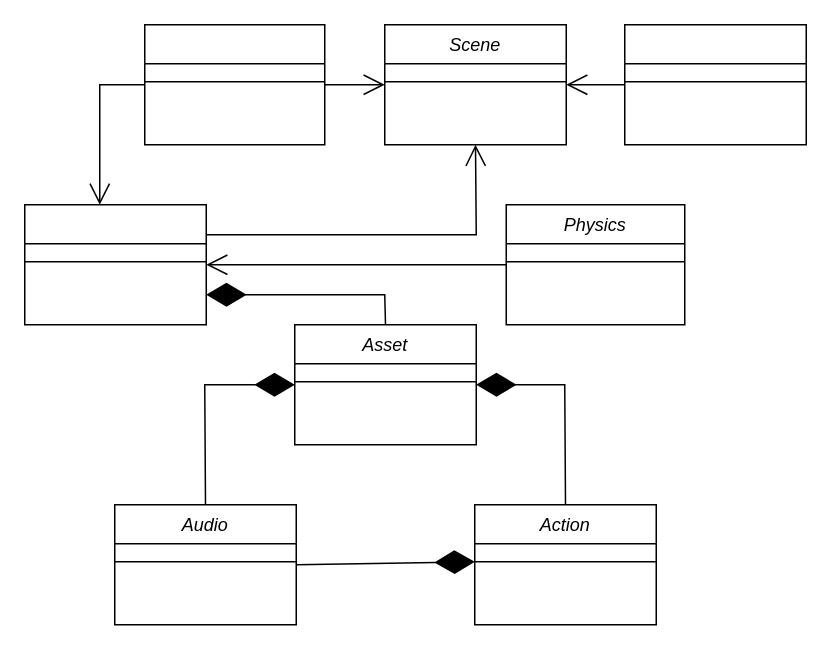
Image size: 831x650. Some labels were removed from this diagram. The centre of each missing label's shape, as x and y in pixels:
"Behavior" goes at point 114,264.
"Camera" goes at point 234,84.
"Time" goes at point 714,84.
